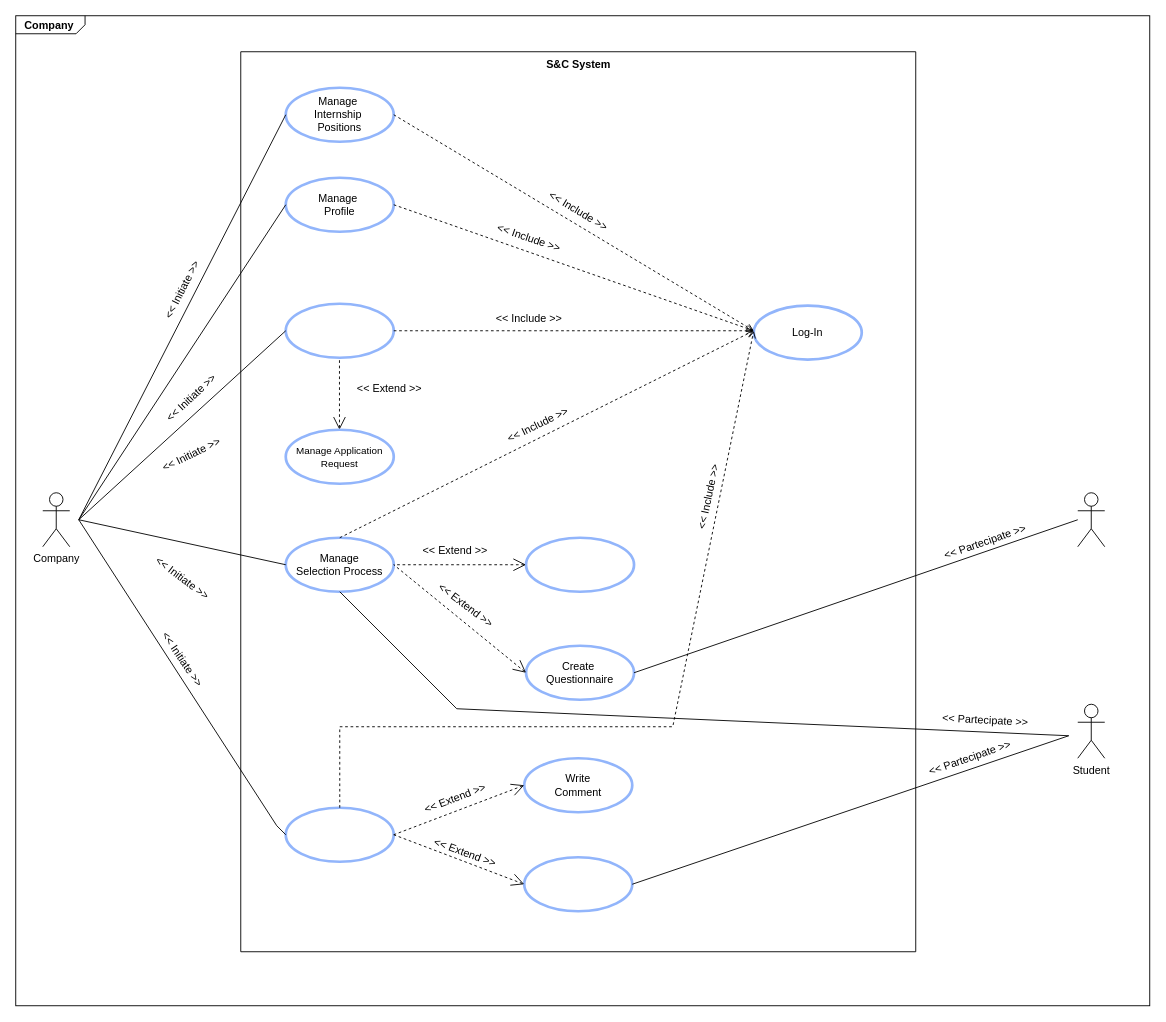
Some shapes in this 1166 by 1022 pixel diagram are drawn without their labels. The shapes that lost their labels are listed below. From the top down, each one's centre as x and y in pixels, then its label:
At (x=339, y=330): "Check received Applications".
At (x=1091, y=519): "AI API".
At (x=579, y=564): "Set Interview".
At (x=339, y=834): "Review Internship".
At (x=577, y=883): "Manage Complaints".
